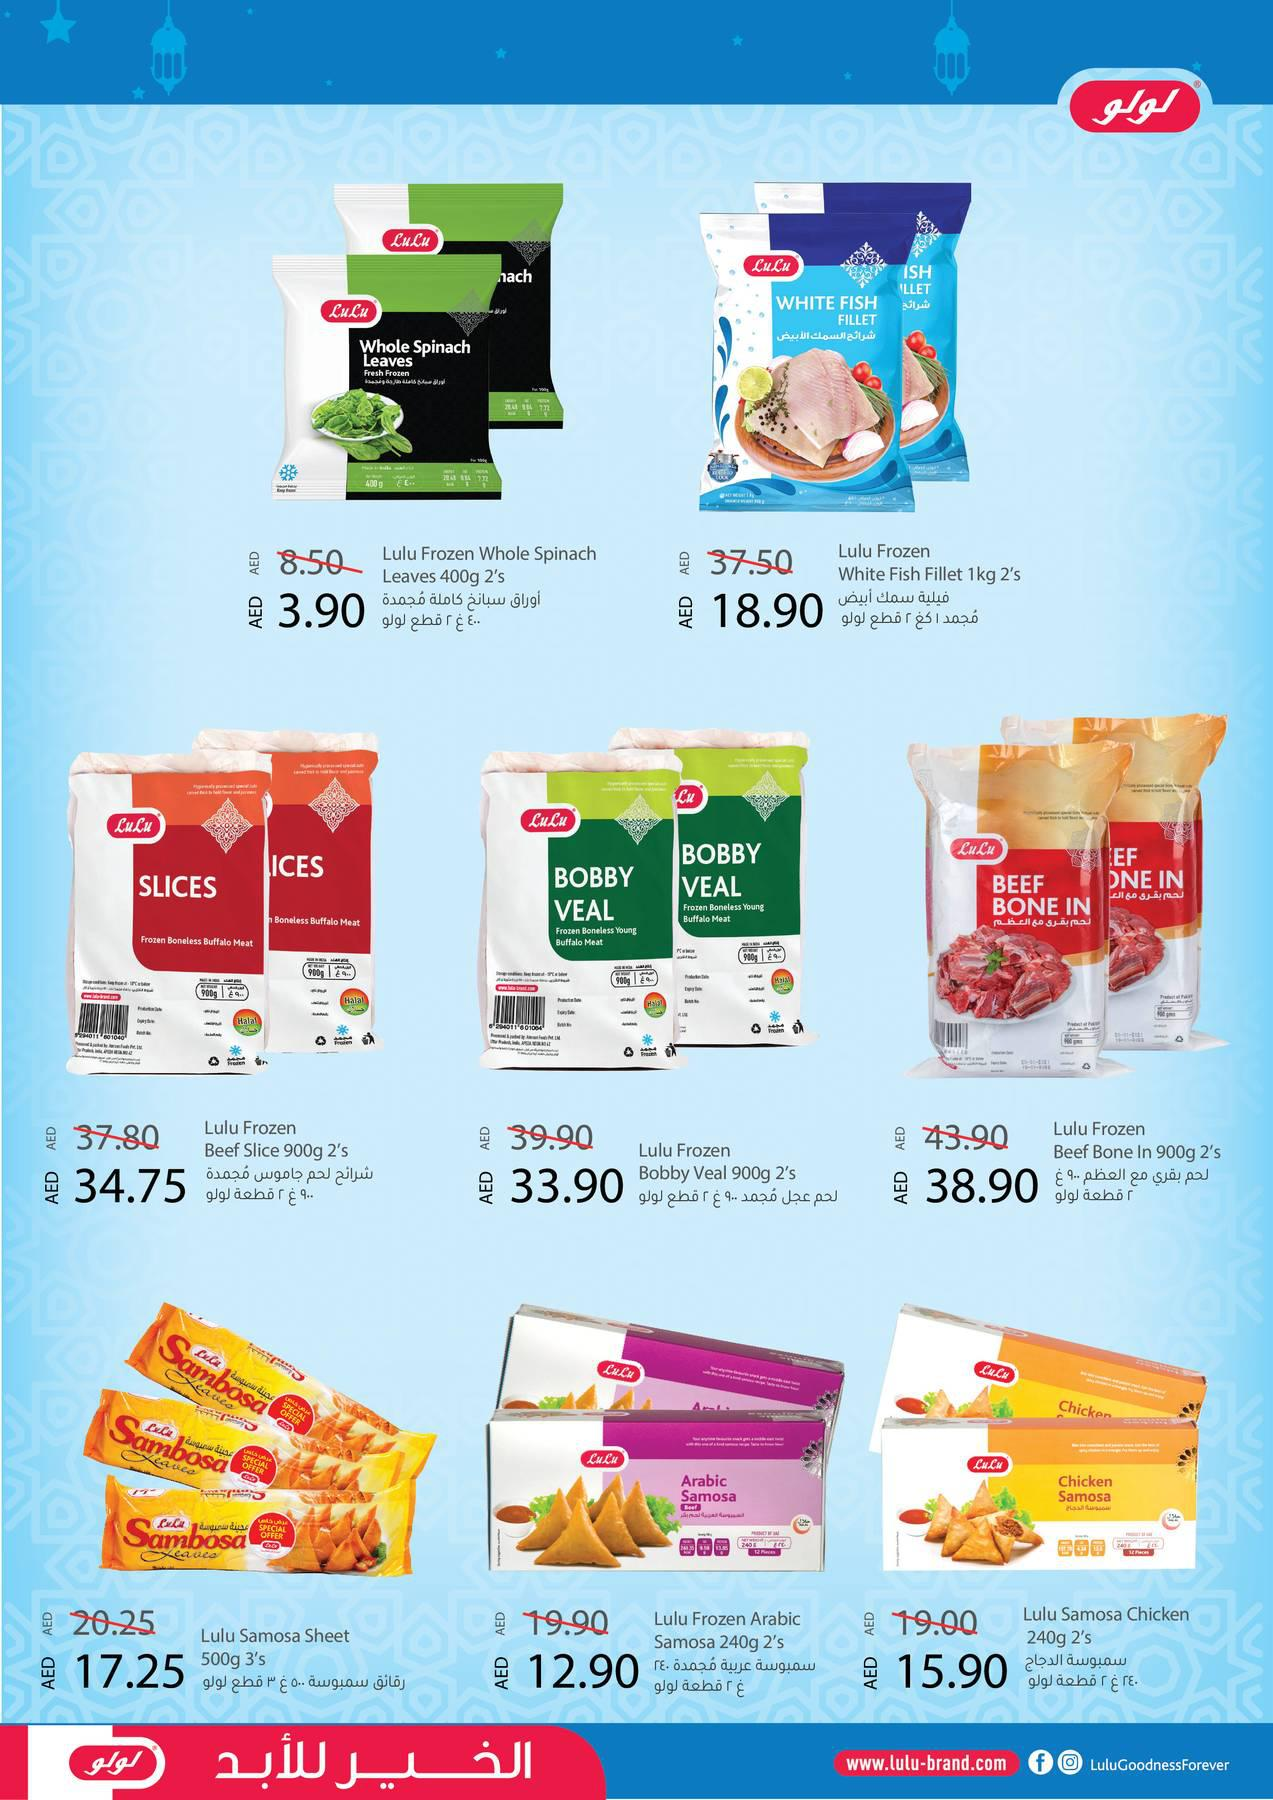text: (371, 526, 632, 642), (1042, 1088, 1243, 1222), (627, 1127, 880, 1228), (187, 1106, 406, 1222), (825, 527, 1042, 645), (1011, 1599, 1217, 1704), (641, 1599, 834, 1709), (192, 1618, 415, 1699)
